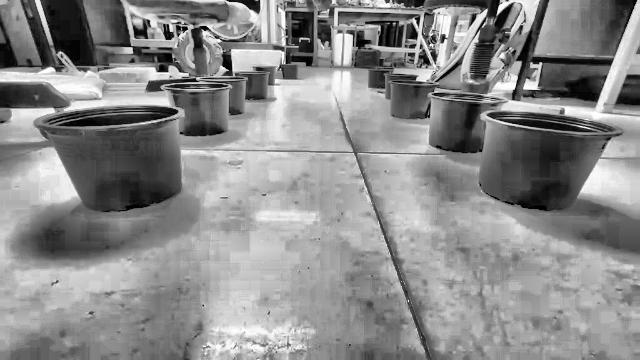pot: (34, 64, 299, 211), (368, 67, 622, 210)
